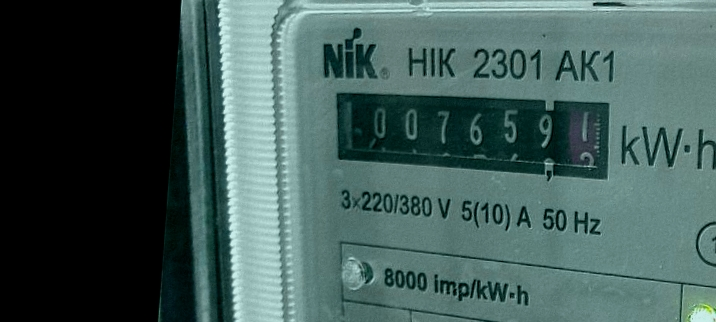0: (399, 104, 422, 145), (369, 103, 391, 143)
1: (573, 107, 595, 146)
5: (498, 106, 522, 147)
6: (463, 107, 488, 150)
7: (430, 106, 455, 146)
9: (533, 110, 557, 152)
screen: (321, 77, 619, 190)
